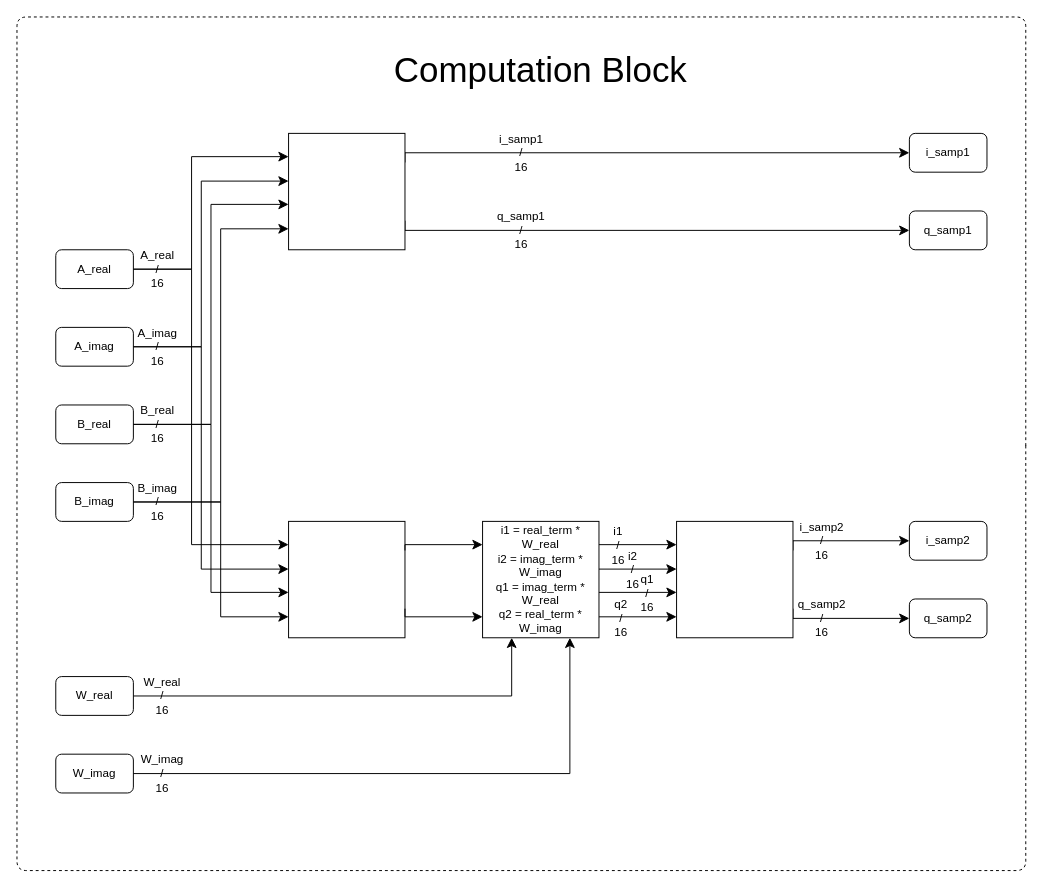
The diagram is 1044 pixels wide and 889 high, and some of its shapes have lost their labels. The centre of each missing label's shape, as x and y in pixels:
"i_samp1 = A_real + B_real q_samp1 = A_imag + B_imag" belongs at point (346, 191).
"i_samp2 = INVERSE ? i1 + i2 : i1 - i2 q_samp2 = INVERSE ? q1 - q2 : q1 + q2" belongs at point (734, 579).
"real_term = A_real - B_real imag_term = A_imag - B_imag" belongs at point (346, 579).
